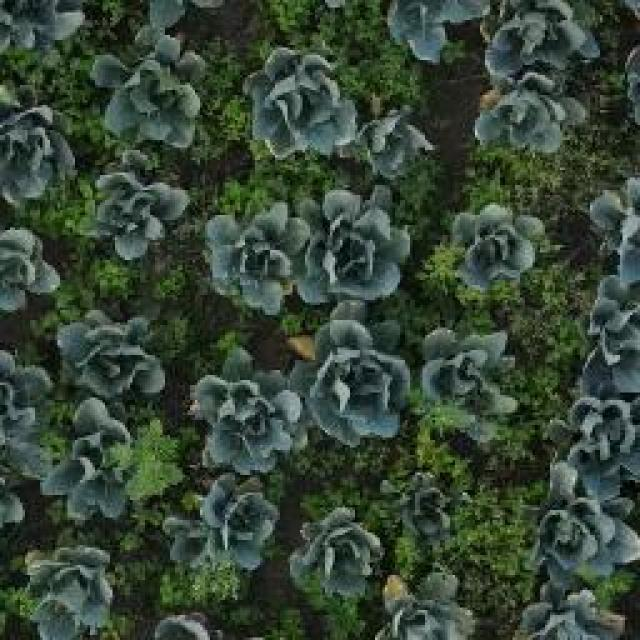cabbage: (92, 30, 202, 148), (300, 335, 410, 453), (242, 48, 362, 156), (308, 191, 418, 306), (42, 402, 144, 520), (52, 301, 167, 405), (200, 202, 309, 307), (193, 366, 296, 461), (477, 73, 579, 168), (88, 169, 192, 261), (172, 478, 270, 572), (28, 542, 122, 640), (286, 514, 380, 604), (425, 328, 516, 418), (551, 392, 640, 482), (446, 209, 543, 290), (540, 500, 622, 584), (355, 107, 446, 179), (388, 468, 470, 542), (0, 229, 63, 307), (0, 118, 67, 191)
